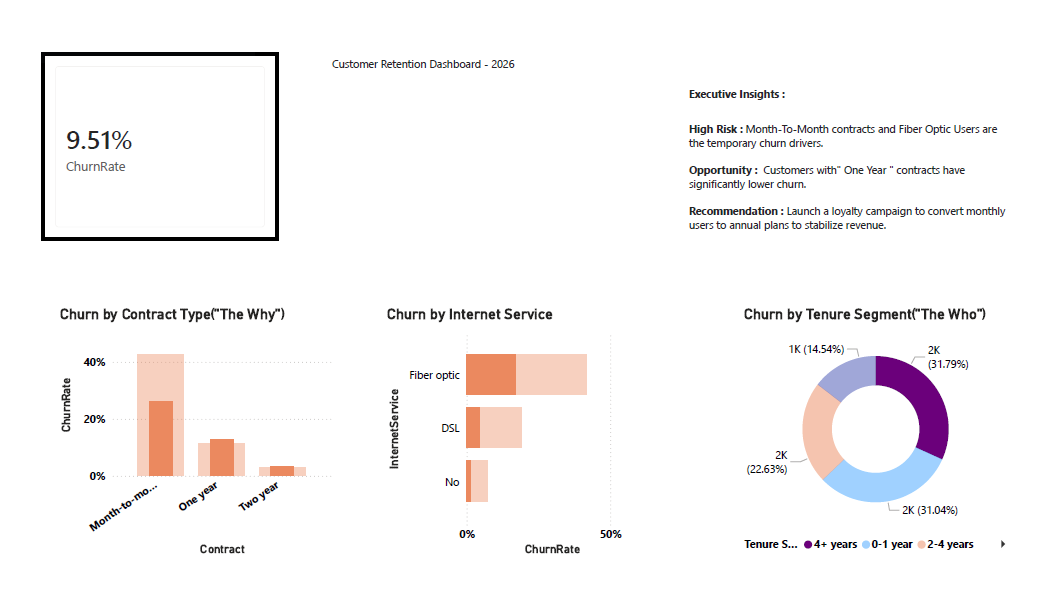

The page's visual inventory and layout, read from the dashboard file:
{"tool":"powerbi","page":{"name":"Page 1","canvas":[1280,720],"ordinal":0},"visuals":[{"type":"cardVisual","fields":{"Data":["Key Metrics.ChurnRate"]},"box":[33.6,45.4,294,233.5],"z":0},{"type":"clusteredColumnChart","title":"Churn by Contract Type(\"The Why\")","fields":{"Category":["telco customer dataset.Contract"],"Y":["Key Metrics.ChurnRate"]},"box":[52.1,359.5,347.7,315.8],"z":1},{"type":"donutChart","title":"Churn by Tenure Segment(\"The Who\")","fields":{"Category":["telco customer dataset.Tenure Segment"],"Y":["Key Metrics.TotalCustomers"]},"box":[902,359.5,336,315.8],"z":2},{"type":"barChart","title":"Churn by Internet Service","fields":{"Y":["Key Metrics.ChurnRate"],"Category":["telco customer dataset.InternetService"]},"box":[458.6,359.5,336,315.8],"z":3},{"type":"textbox","box":[386.4,45.4,461.9,233.5],"z":4},{"type":"textbox","box":[833.2,45.4,404.8,233.5],"z":5}]}

Visuals, with their boxes on the page's 1280x720 design canvas (x1, y1, x2, y2). These are canvas units, not pixel positions in the 1046x610 screenshot, which may show the page scaled, cropped or inside an application window:
cardVisual - Key Metrics.ChurnRate: x1=34, y1=45, x2=328, y2=279
"Churn by Contract Type("The Why")" clusteredColumnChart: x1=52, y1=360, x2=400, y2=675
"Churn by Tenure Segment("The Who")" donutChart: x1=902, y1=360, x2=1238, y2=675
"Churn by Internet Service" barChart: x1=459, y1=360, x2=795, y2=675
textbox: x1=386, y1=45, x2=848, y2=279
textbox: x1=833, y1=45, x2=1238, y2=279
